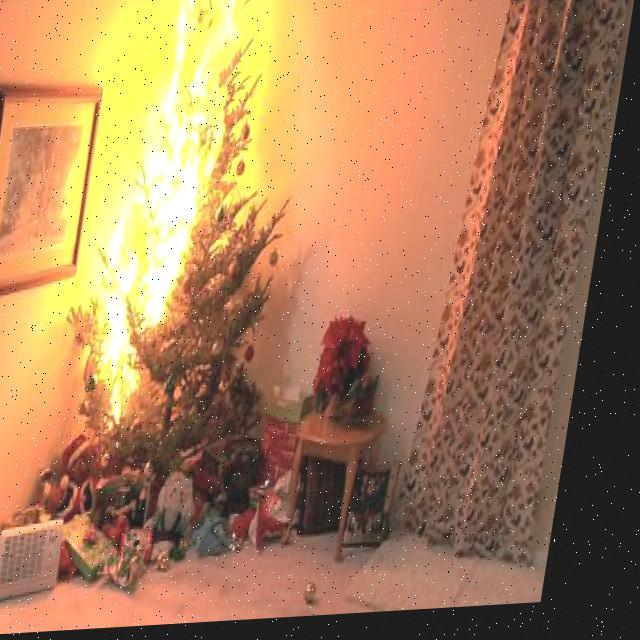Fire: (80, 0, 250, 448)
